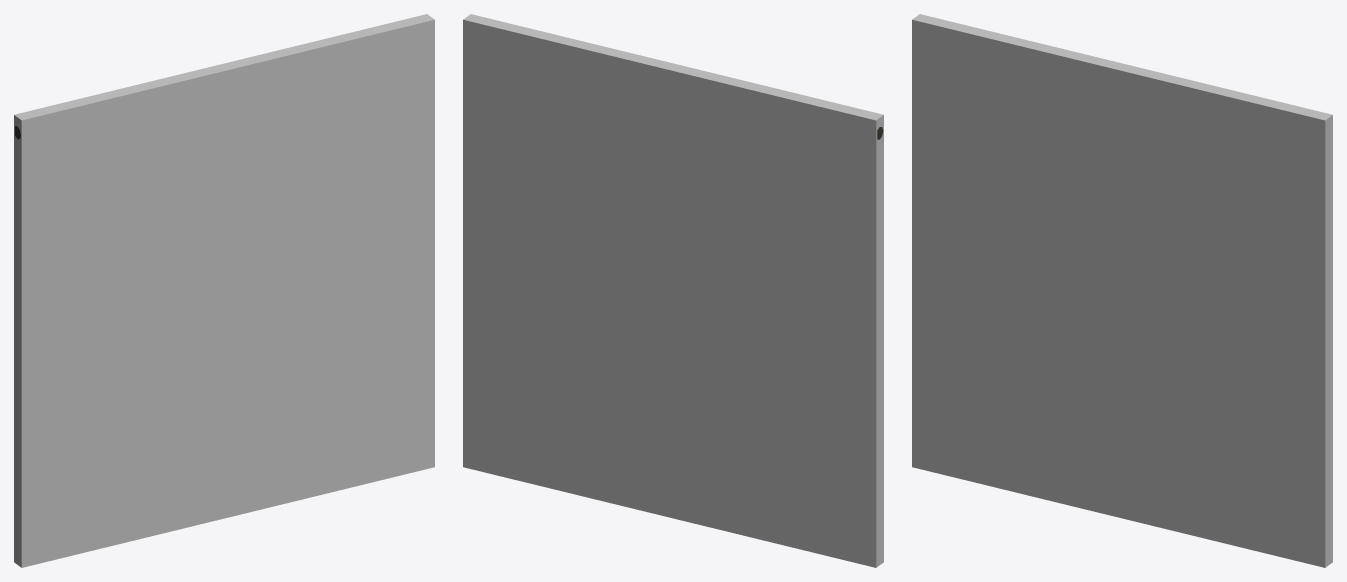
File: pipes_05.DAE
3 views of the same model, side by side, from view 1: azimuth 30°, elevation 25°; view 2: azimuth 150°, elevation 25°; view 3: azimuth 330°, elevation 25° (orthographic).
Visible parts, largest first — view 1: bounds; view 2: bounds; view 3: bounds.
Boxes of the visible parts, x1,y1,x2,y2 form: bounds: (14,14,434,567); bounds: (463,14,883,567); bounds: (912,14,1332,567).
Bounding box in the file's own units: 601 × 19.62 × 622.
